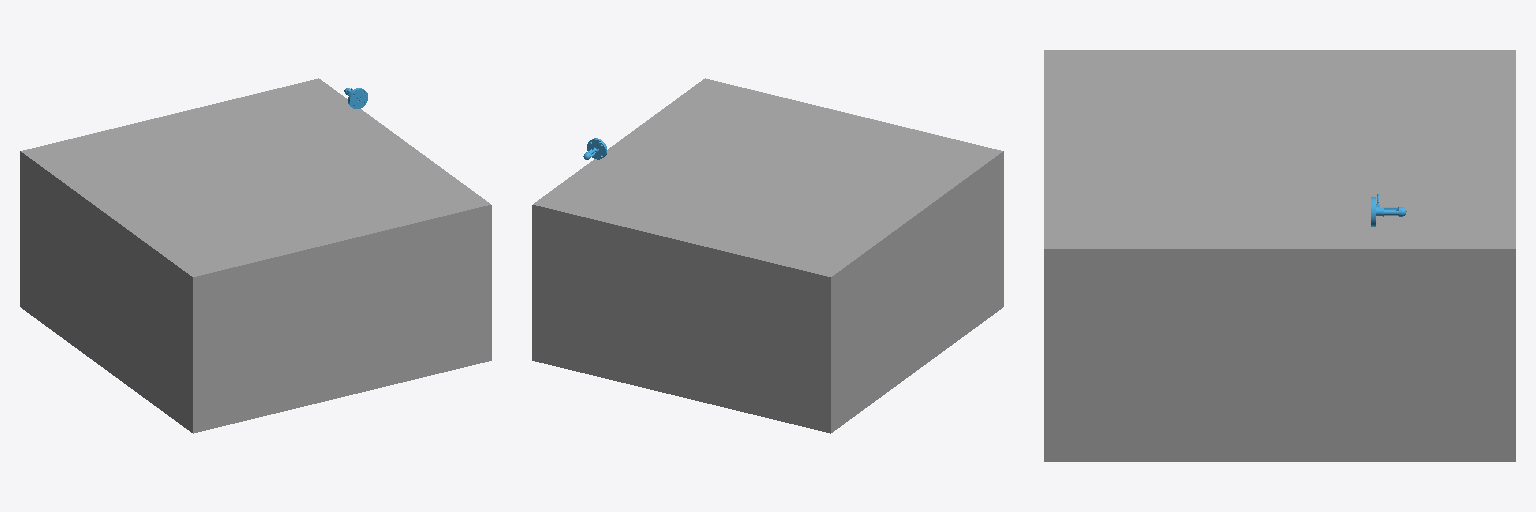
The robot description file, URDF, robot "ur3":
<?xml version="1.0" encoding="utf-8"?>
<!-- =================================================================================== -->
<!-- |    This document was autogenerated by xacro from ur3_joint_limited_robot.urdf.xacro | -->
<!-- |    EDITING THIS FILE BY HAND IS NOT RECOMMENDED                                 | -->
<!-- =================================================================================== -->
<robot name="ur3" xmlns:xacro="http://wiki.ros.org/xacro">
  <gazebo>
    <plugin filename="libgazebo_ros_control.so" name="ros_control">
      <!--robotNamespace>/</robotNamespace-->
      <!--robotSimType>gazebo_ros_control/DefaultRobotHWSim</robotSimType-->
    </plugin>
    <!--
    <plugin name="gazebo_ros_power_monitor_controller" filename="libgazebo_ros_power_monitor.so">
      <alwaysOn>true</alwaysOn>
      <updateRate>1.0</updateRate>
      <timeout>5</timeout>
      <powerStateTopic>power_state</powerStateTopic>
      <powerStateRate>10.0</powerStateRate>
      <fullChargeCapacity>87.78</fullChargeCapacity>
      <dischargeRate>-474</dischargeRate>
      <chargeRate>525</chargeRate>
      <dischargeVoltage>15.52</dischargeVoltage>
      <chargeVoltage>16.41</chargeVoltage>
    </plugin>
-->
  </gazebo>
  <!--
  Author: [author]
-->
  <!-- measured from model -->
  <link name="ground_plane_box">
    <visual>
        <origin xyz="0 0 0" rpy="0 0 0"/>
        <geometry>
            <box size="1.0 1.0 0.5"/> 
        </geometry>
        <material name="Grey">
            <color rgba="0.7 0.7 0.7 1.0"/>
        </material>
    </visual>
    <collision>
        <origin xyz="0 0 0" rpy="0 0 0"/>
        <geometry>
            <box size="1.0 1.0 0.5"/> 
        </geometry>
    </collision>
</link>

<joint name="ground_plane_box" type="fixed">
    <parent link="world" />
    <child link="ground_plane_box" />
    <origin xyz="0 0 -0.25" rpy="0 0 0" />
</joint>
  <link name="base_link">
    <visual>
      <geometry>
        <mesh filename="package://impedance_test/meshes/visual/base.dae"/>
      </geometry>
      <material name="LightGrey">
        <color rgba="0.7 0.7 0.7 1.0"/>
      </material>
    </visual>
    <collision>
      <geometry>
        <mesh filename="package://impedance_test/meshes/collision/base.stl"/>
      </geometry>
    </collision>
    <inertial>
      <mass value="2.0"/>
      <origin rpy="0 0 0" xyz="0.0 0.0 0.0"/>
      <inertia ixx="0.0030531654454" ixy="0.0" ixz="0.0" iyy="0.0030531654454" iyz="0.0" izz="0.005625"/>
    </inertial>
  </link>
  <joint name="shoulder_pan_joint" type="revolute">
    <parent link="base_link"/>
    <child link="shoulder_link"/>
    <origin rpy="0.0 0.0 0.0" xyz="0.0 0.0 0.1519"/>
    <axis xyz="0 0 1"/>
    <limit effort="330.0" lower="-3.14159265359" upper="3.14159265359" velocity="2.16"/>
    <dynamics damping="0.0" friction="0.0"/>
  </joint>
  <link name="shoulder_link">
    <visual>
      <geometry>
        <mesh filename="package://impedance_test/meshes/visual/shoulder.dae"/>
      </geometry>
      <material name="LightGrey">
        <color rgba="0.7 0.7 0.7 1.0"/>
      </material>
    </visual>
    <collision>
      <geometry>
        <mesh filename="package://impedance_test/meshes/collision/shoulder.stl"/>
      </geometry>
    </collision>
    <inertial>
      <mass value="2.0"/>
      <origin rpy="0 0 0" xyz="0.0 0.0 0.0"/>
      <inertia ixx="0.0080931634294" ixy="0.0" ixz="0.0" iyy="0.0080931634294" iyz="0.0" izz="0.005625"/>
    </inertial>
  </link>
  <joint name="shoulder_lift_joint" type="revolute">
    <parent link="shoulder_link"/>
    <child link="upper_arm_link"/>
    <origin rpy="0.0 1.57079632679 0.0" xyz="0.0 0.1198 0.0"/>
    <axis xyz="0 1 0"/>
    <limit effort="330.0" lower="-3.14159265359" upper="3.14159265359" velocity="2.16"/>
    <dynamics damping="0.0" friction="0.0"/>
  </joint>
  <link name="upper_arm_link">
    <visual>
      <geometry>
        <mesh filename="package://impedance_test/meshes/visual/upperarm.dae"/>
      </geometry>
      <material name="LightGrey">
        <color rgba="0.7 0.7 0.7 1.0"/>
      </material>
    </visual>
    <collision>
      <geometry>
        <mesh filename="package://impedance_test/meshes/collision/upperarm.stl"/>
      </geometry>
    </collision>
    <inertial>
      <mass value="3.42"/>
      <origin rpy="0 0 0" xyz="0.0 0.0 0.121825"/>
      <inertia ixx="0.0217284832211" ixy="0.0" ixz="0.0" iyy="0.0217284832211" iyz="0.0" izz="0.00961875"/>
    </inertial>
  </link>
  <joint name="elbow_joint" type="revolute">
    <parent link="upper_arm_link"/>
    <child link="forearm_link"/>
    <origin rpy="0.0 0.0 0.0" xyz="0.0 -0.0925 0.24365"/>
    <axis xyz="0 1 0"/>
    <limit effort="150.0" lower="-3.14159265359" upper="3.14159265359" velocity="3.15"/>
    <dynamics damping="0.0" friction="0.0"/>
  </joint>
  <link name="forearm_link">
    <visual>
      <geometry>
        <mesh filename="package://impedance_test/meshes/visual/forearm.dae"/>
      </geometry>
      <material name="LightGrey">
        <color rgba="0.7 0.7 0.7 1.0"/>
      </material>
    </visual>
    <collision>
      <geometry>
        <mesh filename="package://impedance_test/meshes/collision/forearm.stl"/>
      </geometry>
    </collision>
    <inertial>
      <mass value="1.26"/>
      <origin rpy="0 0 0" xyz="0.0 0.0 0.106625"/>
      <inertia ixx="0.00654680644378" ixy="0.0" ixz="0.0" iyy="0.00654680644378" iyz="0.0" izz="0.00354375"/>
    </inertial>
  </link>
  <joint name="wrist_1_joint" type="revolute">
    <parent link="forearm_link"/>
    <child link="wrist_1_link"/>
    <origin rpy="0.0 1.57079632679 0.0" xyz="0.0 0.0 0.21325"/>
    <axis xyz="0 1 0"/>
    <limit effort="54.0" lower="-3.14159265359" upper="3.14159265359" velocity="3.2"/>
    <dynamics damping="0.0" friction="0.0"/>
  </joint>
  <link name="wrist_1_link">
    <visual>
      <geometry>
        <mesh filename="package://impedance_test/meshes/visual/wrist1.dae"/>
      </geometry>
      <material name="LightGrey">
        <color rgba="0.7 0.7 0.7 1.0"/>
      </material>
    </visual>
    <collision>
      <geometry>
        <mesh filename="package://impedance_test/meshes/collision/wrist1.stl"/>
      </geometry>
    </collision>
    <inertial>
      <mass value="0.8"/>
      <origin rpy="0 0 0" xyz="0.0 0.0 0.0"/>
      <inertia ixx="0.002084999166" ixy="0.0" ixz="0.0" iyy="0.002084999166" iyz="0.0" izz="0.00225"/>
    </inertial>
  </link>
  <joint name="wrist_2_joint" type="revolute">
    <parent link="wrist_1_link"/>
    <child link="wrist_2_link"/>
    <origin rpy="0.0 0.0 0.0" xyz="0.0 0.08505 0.0"/>
    <axis xyz="0 0 1"/>
    <limit effort="54.0" lower="-3.14159265359" upper="3.14159265359" velocity="3.2"/>
    <dynamics damping="0.0" friction="0.0"/>
  </joint>
  <link name="wrist_2_link">
    <visual>
      <geometry>
        <mesh filename="package://impedance_test/meshes/visual/wrist2.dae"/>
      </geometry>
      <material name="LightGrey">
        <color rgba="0.7 0.7 0.7 1.0"/>
      </material>
    </visual>
    <collision>
      <geometry>
        <mesh filename="package://impedance_test/meshes/collision/wrist2.stl"/>
      </geometry>
    </collision>
    <inertial>
      <mass value="0.8"/>
      <origin rpy="0 0 0" xyz="0.0 0.0 0.0"/>
      <inertia ixx="0.002084999166" ixy="0.0" ixz="0.0" iyy="0.002084999166" iyz="0.0" izz="0.00225"/>
    </inertial>
  </link>
  <joint name="wrist_3_joint" type="revolute">
    <parent link="wrist_2_link"/>
    <child link="wrist_3_link"/>
    <origin rpy="0.0 0.0 0.0" xyz="0.0 0.0 0.08535"/>
    <axis xyz="0 1 0"/>
    <limit effort="54.0" lower="-3.14159265359" upper="3.14159265359" velocity="3.2"/>
    <dynamics damping="0.0" friction="0.0"/>
  </joint>
  <link name="wrist_3_link">
    <visual>
      <geometry>
        <mesh filename="package://impedance_test/meshes/visual/wrist3.dae"/>
      </geometry>
      <material name="LightGrey">
        <color rgba="0.7 0.7 0.7 1.0"/>
      </material>
    </visual>
    <collision>
      <geometry>
        <mesh filename="package://impedance_test/meshes/collision/wrist3.stl"/>
      </geometry>
    </collision>
    <inertial>
      <mass value="0.35"/>
      <origin rpy="0 0 0" xyz="0.0 0.0 0.0"/>
      <inertia ixx="0.000912187135125" ixy="0.0" ixz="0.0" iyy="0.000912187135125" iyz="0.0" izz="0.000984375"/>
    </inertial>
  </link>
  <!-- <joint name="ee_fixed_joint" type="fixed">
    <parent link="wrist_3_link"/>
    <child link="ee_link"/>
    <origin rpy="0.0 0.0 1.57079632679" xyz="0.0 0.0819 0.0"/>
  </joint>
  <link name="ee_link">
    <collision>
      <geometry>
        <box size="0.01 0.01 0.01"/>
      </geometry>
      <origin rpy="0 0 0" xyz="-0.01 0 0"/>
    </collision>
    <inertial>
      <mass value="0.0"/>
      <origin rpy="0 0 0" xyz="0 0 0"/>
      <inertia ixx="0.0" ixy="0.0" ixz="0.0" iyy="0.0" iyz="0.0" izz="0.0"/>
    </inertial>
  </link> -->
  <transmission name="shoulder_pan_trans">
    <type>transmission_interface/SimpleTransmission</type>
    <joint name="shoulder_pan_joint">
      <hardwareInterface>hardware_interface/PositionJointInterface</hardwareInterface>
    </joint>
    <actuator name="shoulder_pan_motor">
      <mechanicalReduction>1</mechanicalReduction>
    </actuator>
  </transmission>
  <transmission name="shoulder_lift_trans">
    <type>transmission_interface/SimpleTransmission</type>
    <joint name="shoulder_lift_joint">
      <hardwareInterface>hardware_interface/PositionJointInterface</hardwareInterface>
    </joint>
    <actuator name="shoulder_lift_motor">
      <mechanicalReduction>1</mechanicalReduction>
    </actuator>
  </transmission>
  <transmission name="elbow_trans">
    <type>transmission_interface/SimpleTransmission</type>
    <joint name="elbow_joint">
      <hardwareInterface>hardware_interface/PositionJointInterface</hardwareInterface>
    </joint>
    <actuator name="elbow_motor">
      <mechanicalReduction>1</mechanicalReduction>
    </actuator>
  </transmission>
  <transmission name="wrist_1_trans">
    <type>transmission_interface/SimpleTransmission</type>
    <joint name="wrist_1_joint">
      <hardwareInterface>hardware_interface/PositionJointInterface</hardwareInterface>
    </joint>
    <actuator name="wrist_1_motor">
      <mechanicalReduction>1</mechanicalReduction>
    </actuator>
  </transmission>
  <transmission name="wrist_2_trans">
    <type>transmission_interface/SimpleTransmission</type>
    <joint name="wrist_2_joint">
      <hardwareInterface>hardware_interface/PositionJointInterface</hardwareInterface>
    </joint>
    <actuator name="wrist_2_motor">
      <mechanicalReduction>1</mechanicalReduction>
    </actuator>
  </transmission>
  <transmission name="wrist_3_trans">
    <type>transmission_interface/SimpleTransmission</type>
    <joint name="wrist_3_joint">
      <hardwareInterface>hardware_interface/PositionJointInterface</hardwareInterface>
    </joint>
    <actuator name="wrist_3_motor">
      <mechanicalReduction>1</mechanicalReduction>
    </actuator>
  </transmission>
  <gazebo reference="shoulder_link">
    <selfCollide>true</selfCollide>
  </gazebo>
  <gazebo reference="upper_arm_link">
    <selfCollide>true</selfCollide>
  </gazebo>
  <gazebo reference="forearm_link">
    <selfCollide>true</selfCollide>
  </gazebo>
  <gazebo reference="wrist_1_link">
    <selfCollide>true</selfCollide>
  </gazebo>
  <gazebo reference="wrist_3_link">
    <selfCollide>true</selfCollide>
  </gazebo>
  <gazebo reference="wrist_2_link">
    <selfCollide>true</selfCollide>
  </gazebo>
  <gazebo reference="ee_link">
    <selfCollide>true</selfCollide>
  </gazebo>
  <!-- ROS base_link to UR 'Base' Coordinates transform -->
  <link name="base">
    <inertial>
      <mass value="0.0"/>
      <origin rpy="0 0 0" xyz="0 0 0"/>
      <inertia ixx="0.0" ixy="0.0" ixz="0.0" iyy="0.0" iyz="0.0" izz="0.0"/>
    </inertial>
  </link>
  <joint name="base_link-base_fixed_joint" type="fixed">
    <!-- NOTE: this rotation is only needed as long as base_link itself is
                 not corrected wrt the real robot (ie: rotated over 180
                 degrees)
      -->
    <origin rpy="0 0 -3.14159265359" xyz="0 0 0"/>
    <parent link="base_link"/>
    <child link="base"/>
  </joint>
  <!-- Frame coincident with all-zeros TCP on UR controller -->
  <link name="tool0">
    <inertial>
      <mass value="0.0"/>
      <origin rpy="0 0 0" xyz="0 0 0"/>
      <inertia ixx="0.0" ixy="0.0" ixz="0.0" iyy="0.0" iyz="0.0" izz="0.0"/>
    </inertial>
    <visual>
      <geometry>
        <mesh filename="package://impedance_test/meshes/collision/grounded_peg.stl" scale="0.001 0.001 0.001"/>
      </geometry>
      <origin rpy="0 0 0" xyz="0 0 0"/>
    </visual>
    <collision>
      <geometry>
        <mesh filename="package://impedance_test/meshes/collision/grounded_peg.stl" scale="0.001 0.001 0.001"/>
      </geometry>
      <origin rpy="0 0 0" xyz="0 0 0"/>
    </collision>
  </link>

  <joint name="wrist_3_link-tool0_fixed_joint" type="fixed">
    <origin rpy="-1.57079632679 0 0" xyz="0 0.0819 0"/>
    <parent link="wrist_3_link"/>
    <child link="tool0"/>
  </joint>
  <link name="world"/>
  <joint name="world_joint" type="fixed">
    <parent link="world"/>
    <child link="base_link"/>
    <origin rpy="0.0 0.0 0.0" xyz="0.0 0.0 0.0"/>
  </joint>
</robot>

--- What the picture shows (computed from the rendered views, not written in the file) ---
The picture shows the robot from 3 angles, left to right: view 1: azimuth 30°, elevation 25°; view 2: azimuth 150°, elevation 25°; view 3: azimuth 270°, elevation 25°; orthographic projection.
Robot: ur3 — 11 links, 10 joints (6 revolute, 4 fixed); root link world; default pose: all joints at 0.
Links seen in each view (by area): view 1: ground_plane_box; view 2: ground_plane_box; view 3: ground_plane_box.
Link boxes in pixels (x1,y1,x2,y2): ground_plane_box: [20, 78, 491, 433]; ground_plane_box: [532, 78, 1003, 433]; ground_plane_box: [1044, 50, 1515, 461].
Size in the robot's own frame: 1 by 1 by 0.6002 metres.
1 mesh visuals loaded from 8 distinct referenced files (1 binary STL); not drawn: 7 (reference not matched to a file when rendering).